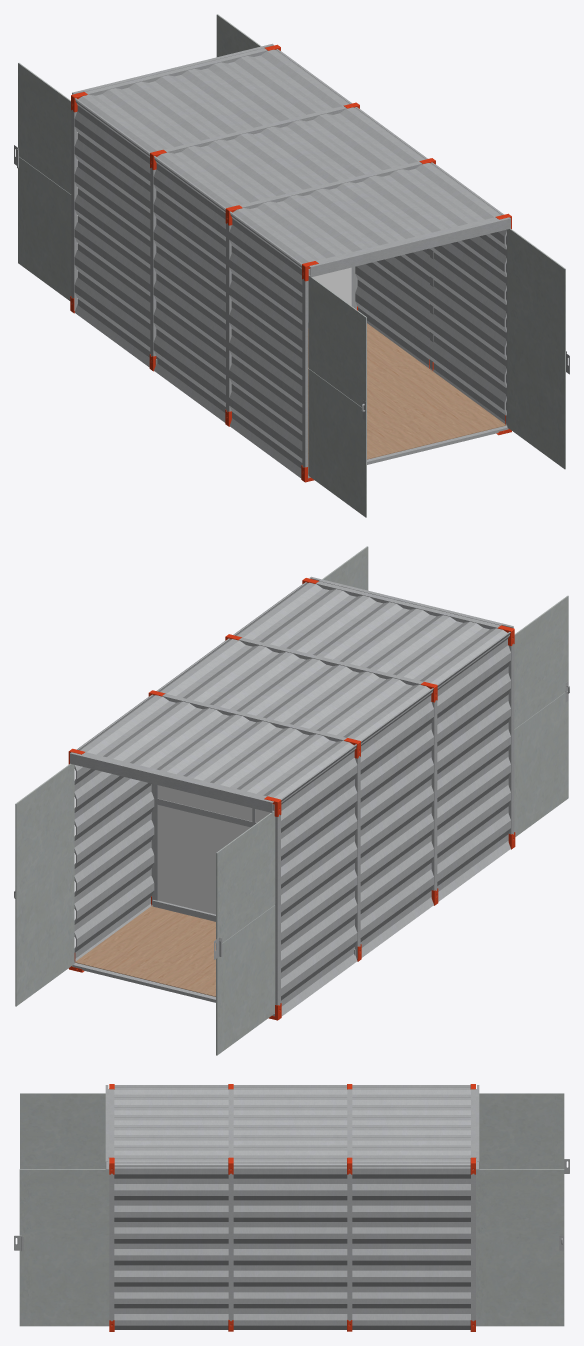
File: 9D_opened.glb
The picture shows the model from 3 angles, top to bottom: view 1: azimuth 30°, elevation 25°; view 2: azimuth 150°, elevation 25°; view 3: azimuth 270°, elevation 25°; orthographic projection. The views are drawn at different scales.
Visible parts, largest first — view 1: rightSide.001, ceiling.001, rightSide, rightSideDoorWing.001, leftSideDoorWing, rightSideDoorWing.002, floor.001, frontRim, gutter.001, rimMiddleFront, rimBack, rimMiddleBack (+3 smaller); view 2: rightSide.001, ceiling.001, rightSide, rightSideDoorWing.002, leftSideDoorWing.002, leftSideDoorWing, floor.001, Wall, gutter, rimBack, frontRim, rimMiddleFront (+4 smaller); view 3: rightSide, ceiling.001, rightSideDoorWing.001, leftSideDoorWing.002, rightSideDoorWing.002, leftSideDoorWing, frontRim, rimMiddleBack, rimMiddleFront, rimBack, rightSide.001, gutter.001 (+1 smaller).
Boxes of the visible parts, left/top/right/bottom form: rightSide.001: left=74, top=98, right=302, bottom=478; ceiling.001: left=75, top=49, right=503, bottom=267; rightSide: left=276, top=49, right=506, bottom=425; rightSideDoorWing.001: left=507, top=228, right=569, bottom=469; leftSideDoorWing: left=308, top=276, right=366, bottom=517; rightSideDoorWing.002: left=14, top=63, right=71, bottom=300; floor.001: left=308, top=323, right=506, bottom=473; frontRim: left=302, top=217, right=508, bottom=478; gutter.001: left=308, top=217, right=510, bottom=277; rimMiddleFront: left=226, top=161, right=433, bottom=411; rimBack: left=71, top=48, right=267, bottom=310; rimMiddleBack: left=150, top=106, right=357, bottom=361; rightSide.001: left=281, top=632, right=510, bottom=1016; ceiling.001: left=77, top=582, right=509, bottom=802; rightSide: left=74, top=582, right=307, bottom=961; rightSideDoorWing.002: left=214, top=811, right=275, bottom=1055; leftSideDoorWing.002: left=14, top=763, right=74, bottom=1006; leftSideDoorWing: left=514, top=595, right=569, bottom=836; floor.001: left=74, top=905, right=215, bottom=996; Wall: left=158, top=785, right=270, bottom=914; gutter: left=70, top=752, right=274, bottom=812; rimBack: left=72, top=752, right=280, bottom=1016; frontRim: left=316, top=581, right=514, bottom=839; rimMiddleFront: left=239, top=637, right=437, bottom=890; rightSide: left=114, top=1161, right=470, bottom=1329; ceiling.001: left=114, top=1087, right=470, bottom=1166; rightSideDoorWing.001: left=14, top=1169, right=109, bottom=1326; leftSideDoorWing.002: left=476, top=1169, right=564, bottom=1326; rightSideDoorWing.002: left=479, top=1093, right=569, bottom=1173; leftSideDoorWing: left=20, top=1093, right=105, bottom=1168; frontRim: left=109, top=1089, right=114, bottom=1325; rimMiddleBack: left=347, top=1089, right=352, bottom=1325; rimMiddleFront: left=228, top=1089, right=233, bottom=1321; rimBack: left=471, top=1089, right=475, bottom=1325; rightSide.001: left=114, top=1085, right=470, bottom=1087; gutter.001: left=105, top=1085, right=109, bottom=1169.
Size of the model in its own units: 23.16 by 23.06 by 68.68.
Materials: 14 (12 with a texture image).
